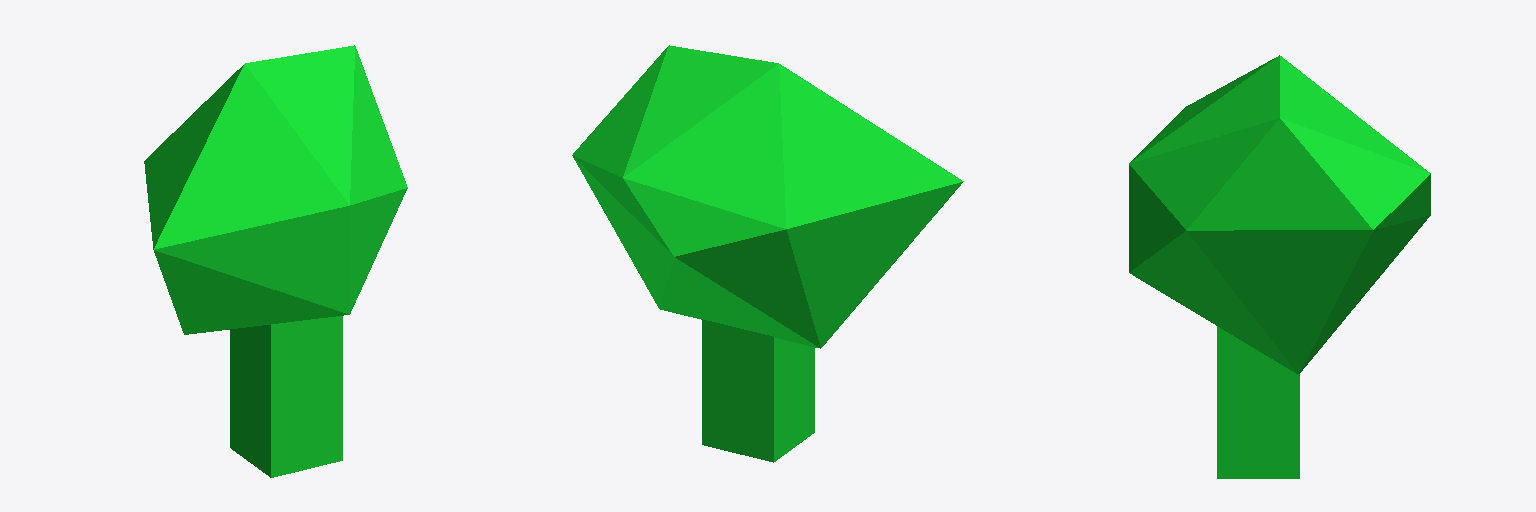
File: Meteor.obj
The picture shows the model from 3 angles: view 1: azimuth 30°, elevation 25°; view 2: azimuth 150°, elevation 25°; view 3: azimuth 270°, elevation 25°; orthographic projection.
Visible parts, largest first — view 1: Meteor; view 2: Meteor; view 3: Meteor.
Boxes of the visible parts, <box> form: Meteor: <box>144,45,407,477</box>; Meteor: <box>572,45,963,462</box>; Meteor: <box>1129,55,1430,478</box>.
Size of the model in its own units: 1.46 by 1.82 by 1.28.